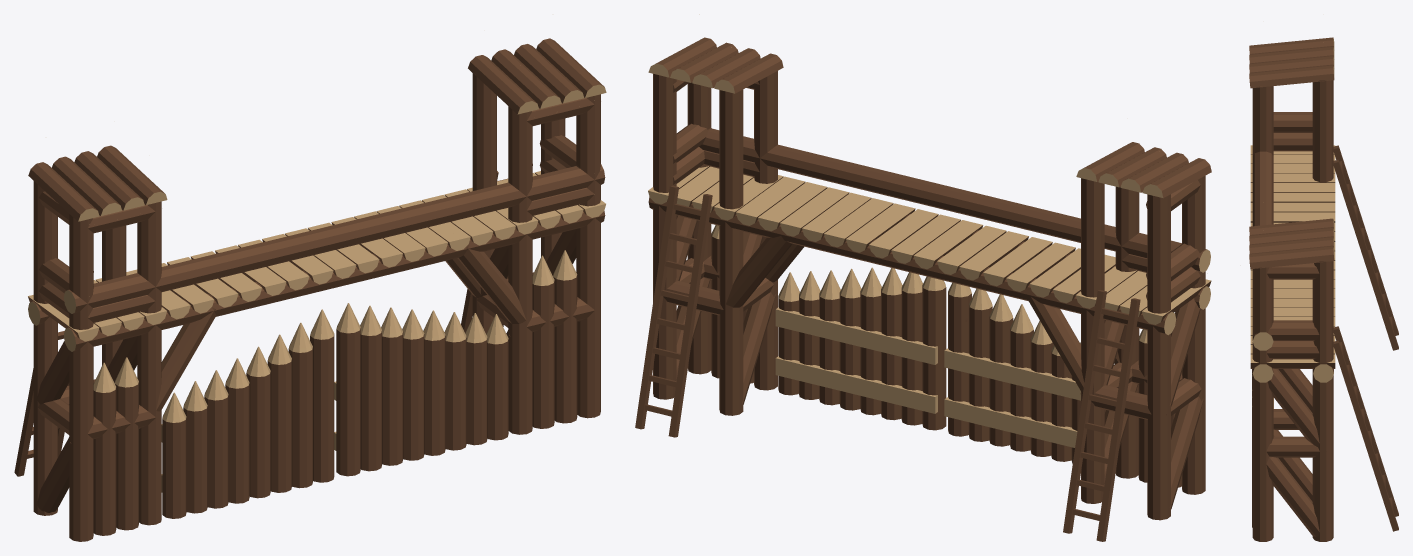
Rendered from Wooden_Gate_Textured.fbx.
3 renders of one model, left to right at view 1: azimuth 30°, elevation 25°; view 2: azimuth 150°, elevation 25°; view 3: azimuth 270°, elevation 25°, orthographic. The views are drawn at different scales.
Parts seen in each view (by area): view 1: Cylinder.054, Cube.002, Cube.005, Cube; view 2: Cylinder.054, Cube.005, Cube.002, Cube.001, Cube; view 3: Cylinder.054, Cube, Cube.001.
Part boxes in pixels (x1,y1,x2,y2): Cylinder.054: [28, 38, 606, 541]; Cube.002: [161, 309, 334, 518]; Cube.005: [334, 303, 508, 476]; Cube: [14, 271, 93, 476]; Cylinder.054: [648, 14, 1211, 520]; Cube.005: [775, 267, 946, 430]; Cube.002: [944, 282, 1105, 463]; Cube.001: [635, 185, 712, 437]; Cube: [1063, 290, 1140, 541]; Cylinder.054: [1249, 37, 1335, 541]; Cube: [1333, 145, 1398, 350]; Cube.001: [1333, 326, 1398, 531].
Bounding box in the file's own units: 969 × 652 × 298.
2 materials, 2 textured.
